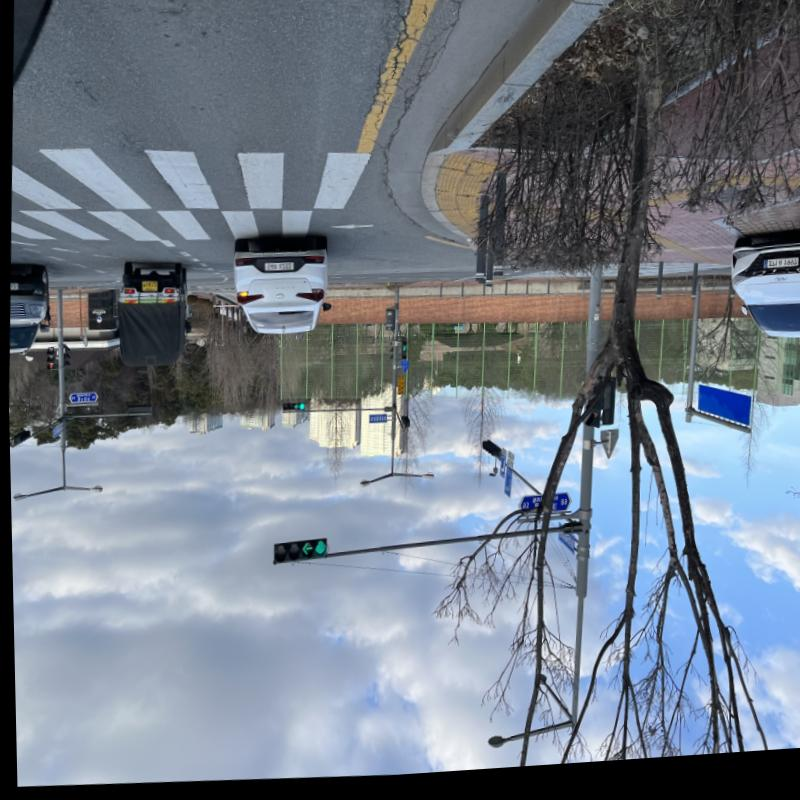green: (311, 543, 324, 560)
left: (298, 544, 311, 562)
